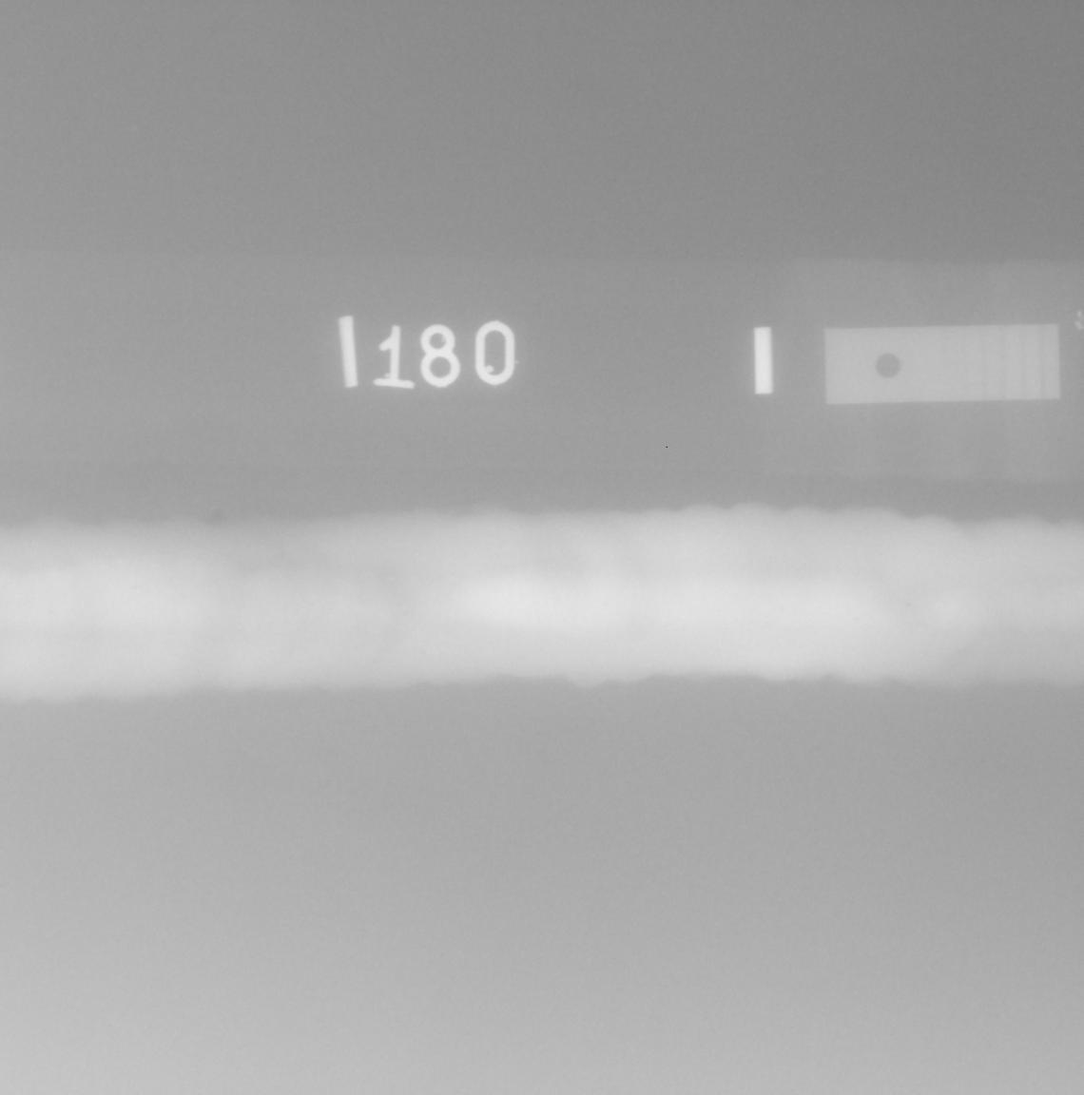Pore/Porosity: (905, 602, 912, 606), (855, 617, 860, 622), (133, 585, 138, 589), (603, 602, 607, 606), (50, 611, 55, 614), (781, 609, 784, 612)
Reference Standard 1: (824, 323, 1060, 404)
